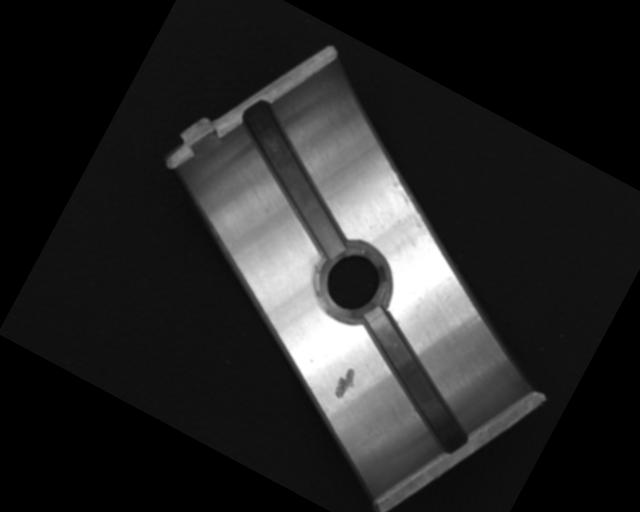bruise: (329, 364, 361, 403)
gap: (204, 97, 385, 263), (327, 304, 501, 459)
hole: (304, 234, 399, 335)
